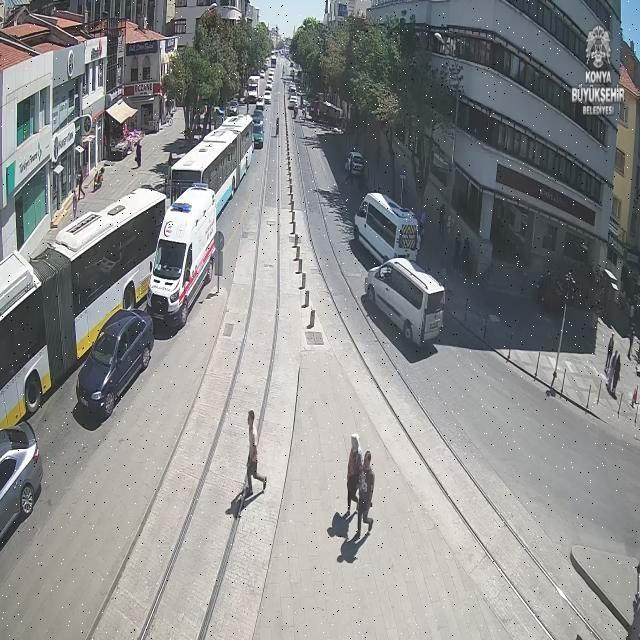Bus: (171, 115, 252, 220), (249, 126, 265, 150)
Car: (77, 306, 155, 417), (0, 415, 42, 550), (250, 111, 264, 131), (255, 96, 264, 112), (263, 90, 271, 106), (265, 79, 273, 91)
Truck: (0, 185, 167, 427), (148, 184, 216, 327), (246, 75, 261, 103)
Van: (365, 256, 445, 346), (355, 191, 420, 263)
